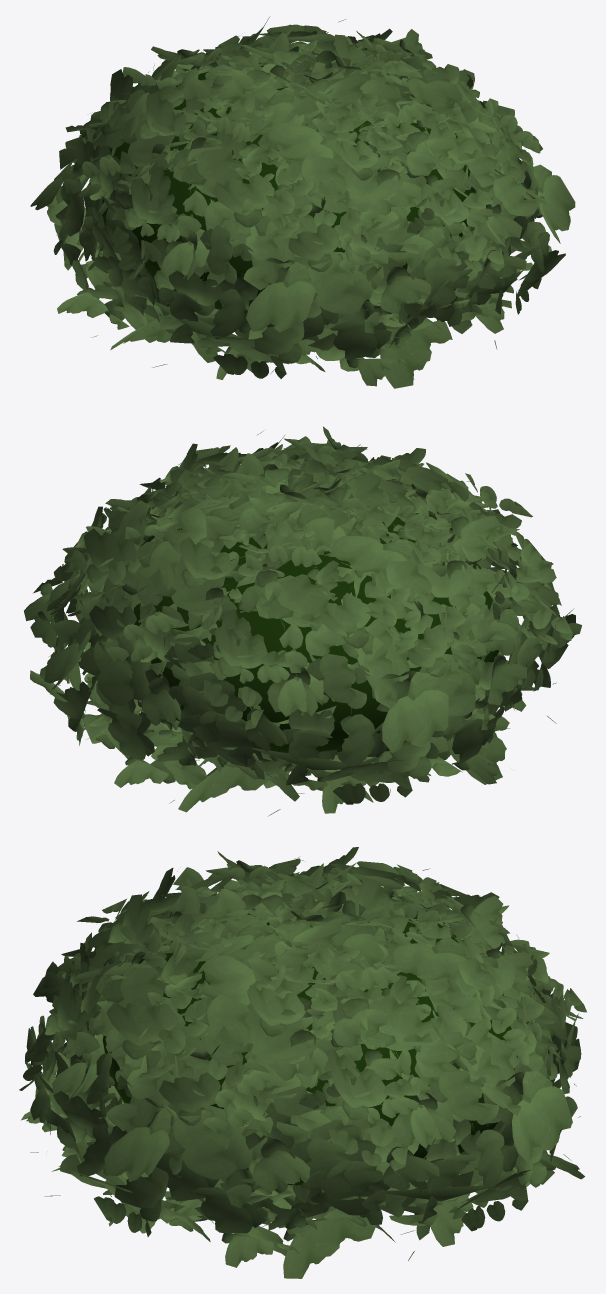
The model's file is bushes.fbx.
3 renders of one model, top to bottom at view 1: azimuth 30°, elevation 25°; view 2: azimuth 150°, elevation 25°; view 3: azimuth 270°, elevation 25°, orthographic. The views are drawn at different scales.
Parts seen in each view (by area): view 1: leaves.002, leaves.003, leaves.001, leaves.004, Sphere; view 2: leaves.001, leaves.002, leaves.004, leaves.003, Sphere; view 3: leaves.003, leaves.004, leaves.001, leaves.002, Sphere.
Boxes of the visible parts, x1,y1,x2,y2 form: leaves.002: [30, 32, 539, 379]; leaves.003: [80, 29, 551, 388]; leaves.001: [53, 36, 517, 362]; leaves.004: [79, 17, 575, 341]; Sphere: [102, 66, 475, 309]; leaves.001: [24, 453, 559, 816]; leaves.002: [81, 426, 556, 802]; leaves.004: [50, 440, 525, 778]; leaves.003: [46, 431, 581, 767]; Sphere: [127, 501, 498, 754]; leaves.003: [21, 863, 555, 1246]; leaves.004: [19, 875, 581, 1278]; leaves.001: [49, 847, 584, 1242]; leaves.002: [25, 867, 586, 1227]; Sphere: [102, 909, 528, 1185].
Size of the model in its own units: 374 by 216 by 374.
